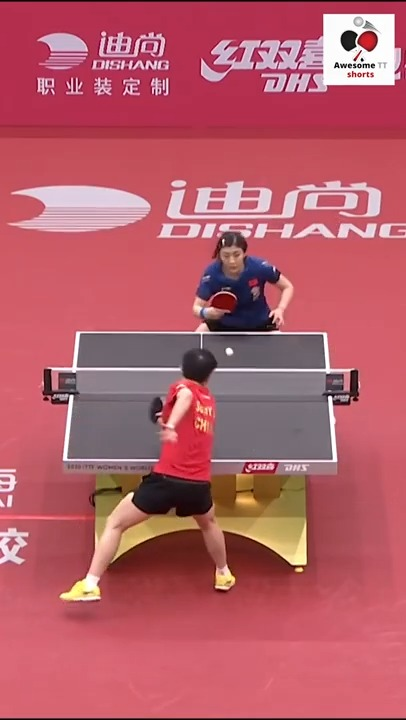Ball: (224, 347, 236, 359)
